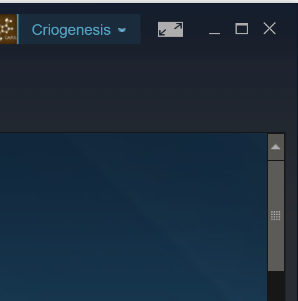close: (254, 12, 287, 44)
